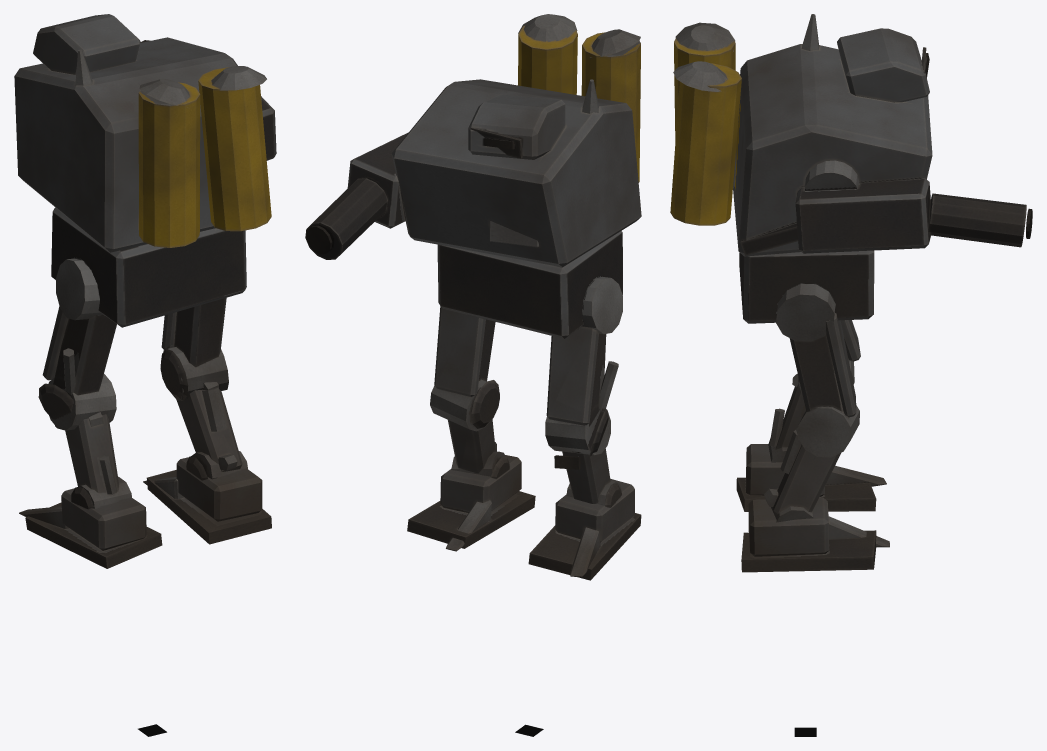
The model's file is chs_pyre_wreck.fbx.
3 renders of one model, left to right at view 1: azimuth 30°, elevation 25°; view 2: azimuth 150°, elevation 25°; view 3: azimuth 270°, elevation 25°, orthographic. The views are drawn at different scales.
Visible parts, largest first — view 1: torso_bar, base_bar, thighL_bar, footR_bar, footL_bar, thighR_bar, shinR_bar, shinL_bar; view 2: torso_bar, base_bar, thighL_bar, footR_bar, thighR_bar, footL_bar, shinL_bar, shinR_bar; view 3: torso_bar, thighR_bar, footR_bar, base_bar, footL_bar, shinR_bar, shinL_bar, thighL_bar.
Boxes of the visible parts, box(x1,y1,x2,y2) form: torso_bar: box(14, 14, 276, 252); base_bar: box(51, 207, 246, 327); thighL_bar: box(38, 258, 116, 430); footR_bar: box(143, 457, 271, 544); footL_bar: box(19, 488, 162, 568); thighR_bar: box(160, 297, 228, 400); shinR_bar: box(176, 382, 247, 480); shinL_bar: box(55, 412, 131, 509); torso_bar: box(305, 14, 641, 267); base_bar: box(437, 231, 622, 338); thighL_bar: box(545, 276, 622, 456); footR_bar: box(407, 455, 535, 551); thighR_bar: box(430, 306, 499, 431); footL_bar: box(528, 479, 641, 580); shinL_bar: box(554, 448, 621, 516); shinR_bar: box(448, 419, 509, 478); torso_bar: box(670, 14, 1032, 256); thighR_bar: box(776, 283, 859, 457); footR_bar: box(741, 497, 889, 572); base_bar: box(739, 250, 874, 323); footL_bar: box(736, 444, 886, 511); shinR_bar: box(764, 427, 840, 522); shinL_bar: box(768, 374, 804, 462); thighL_bar: box(798, 320, 860, 395).
Bounding box in the file's own units: 236 × 694 × 332.
2 materials, 2 textured.
